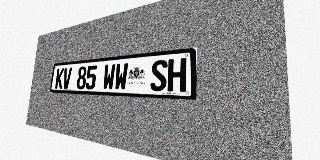5: (85, 65, 97, 90)
8: (76, 66, 87, 89)
H: (167, 58, 187, 92)
K: (55, 68, 64, 89)
S: (150, 59, 168, 91)
V: (62, 67, 72, 89)
W: (114, 63, 128, 90), (102, 64, 116, 90)
